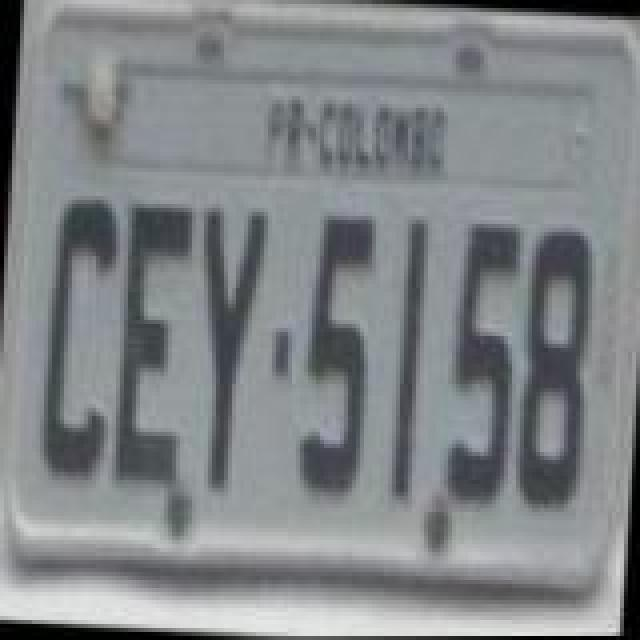1: (386, 220, 426, 504)
5: (290, 208, 378, 508), (438, 218, 526, 518)
8: (508, 224, 600, 520)
C: (36, 190, 124, 482)
E: (106, 200, 194, 492)
Y: (178, 200, 266, 492)
